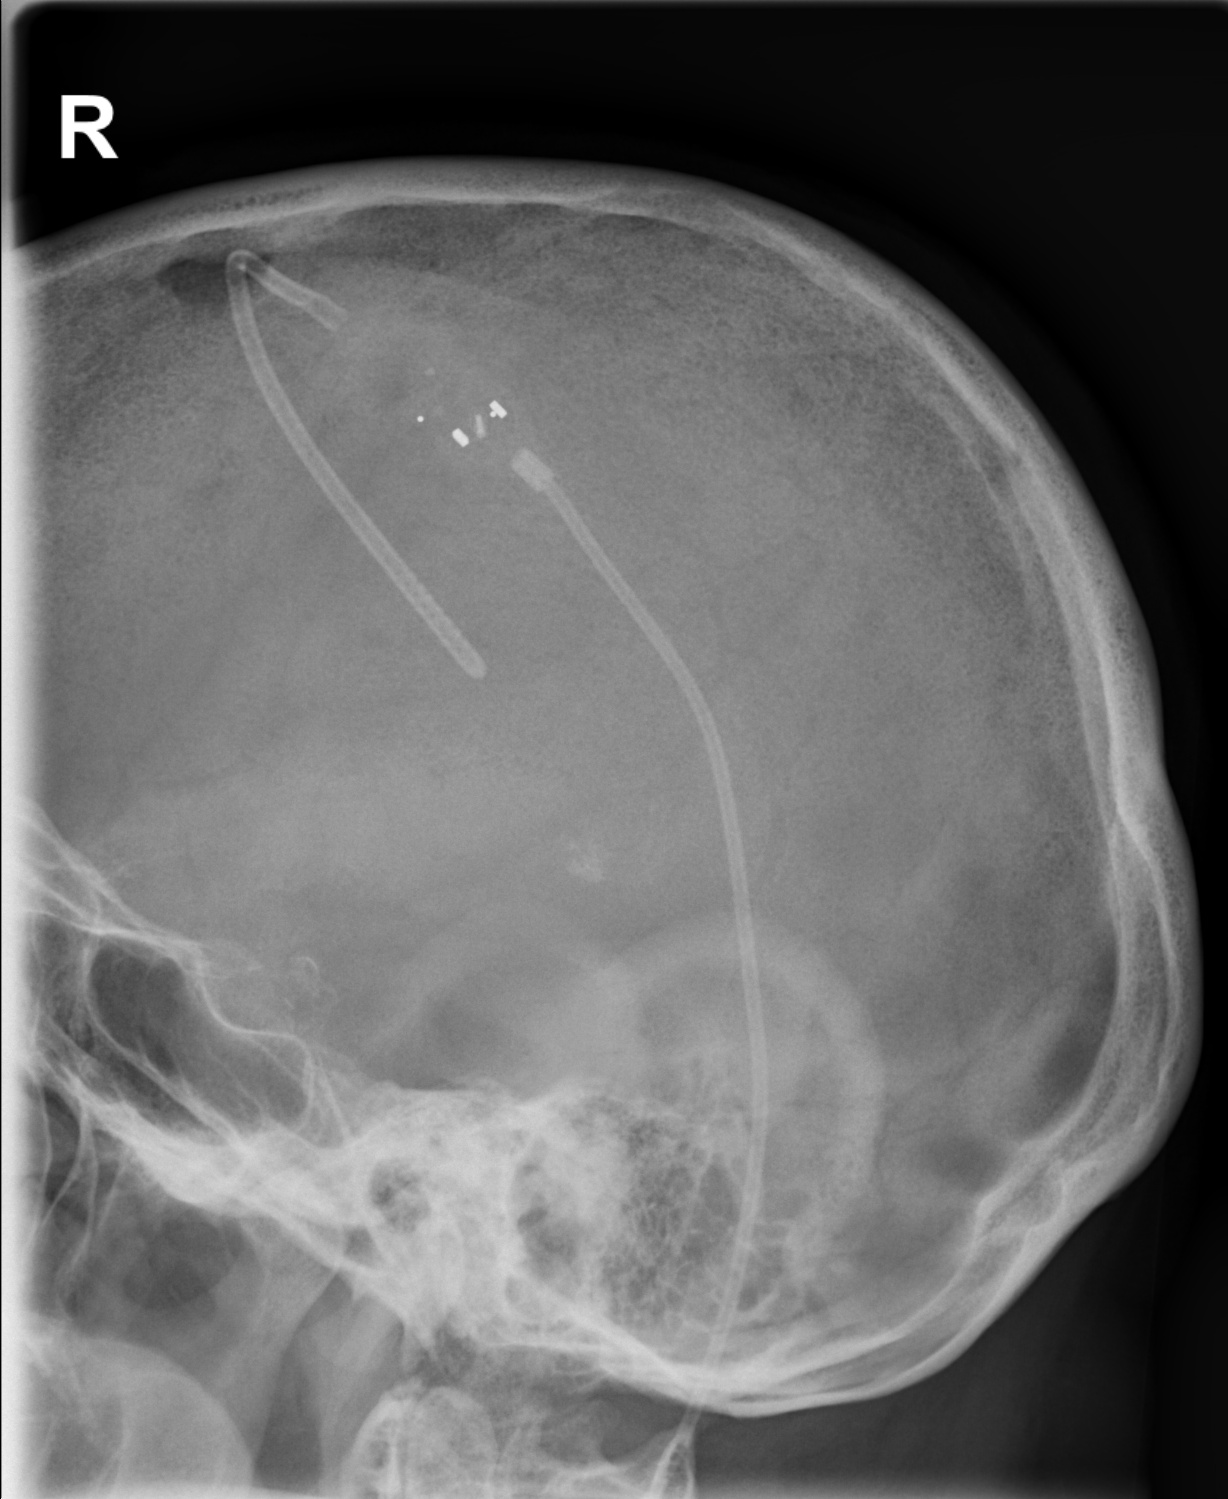Codman Certas: (405, 378, 526, 468)
